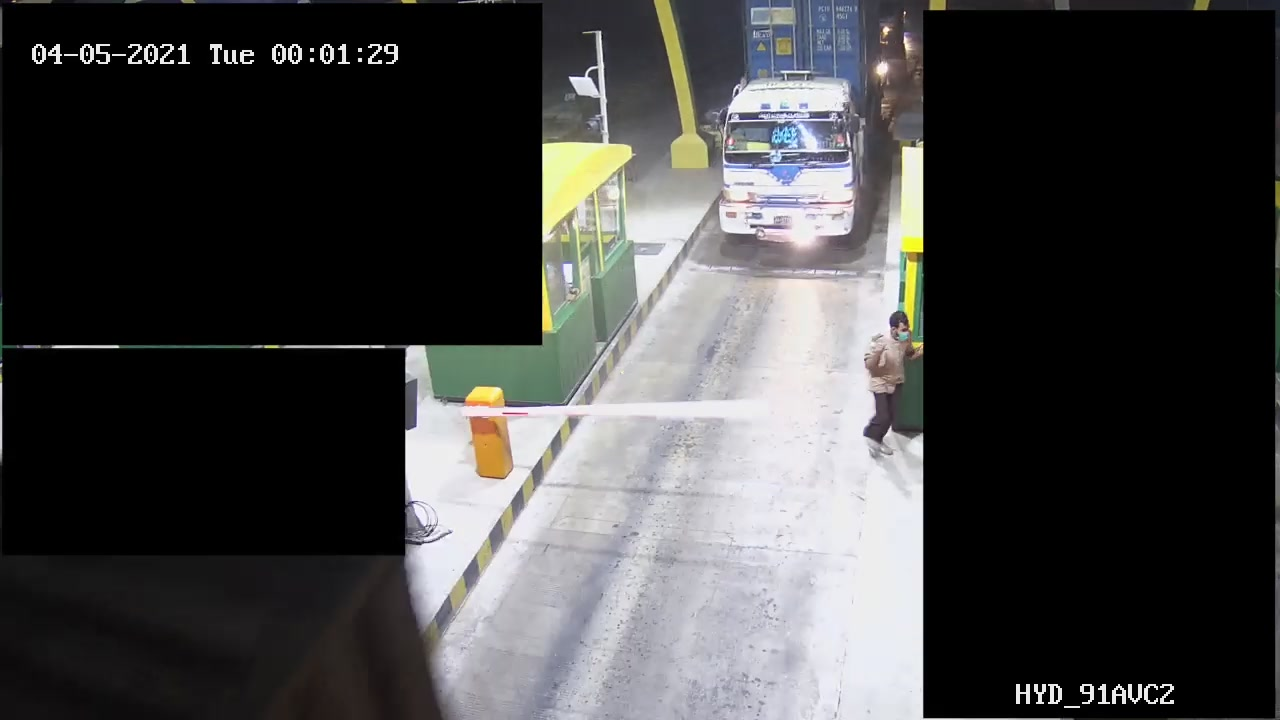F6: (712, 1, 877, 252)
